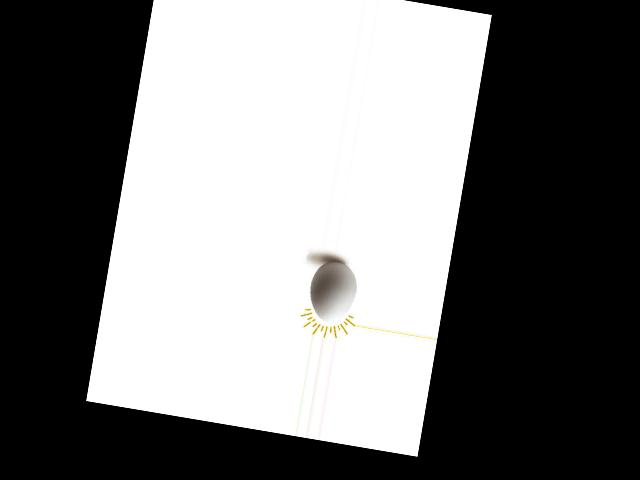egg: (305, 258, 361, 325)
